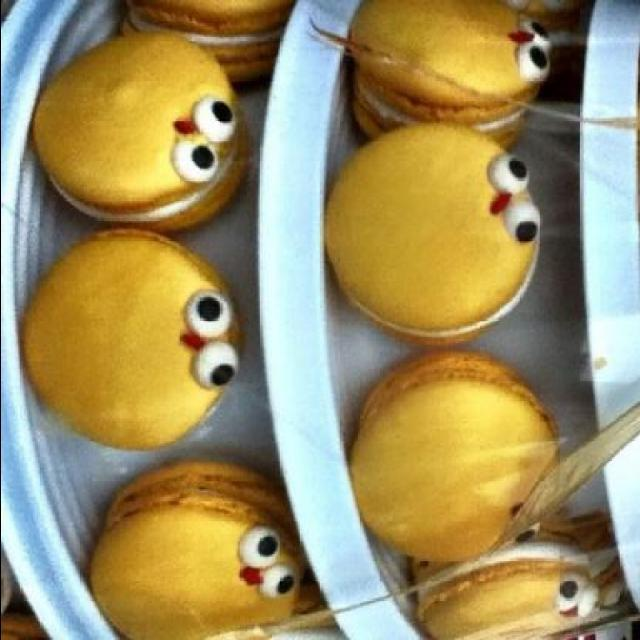Macaron: (18, 6, 590, 638)
